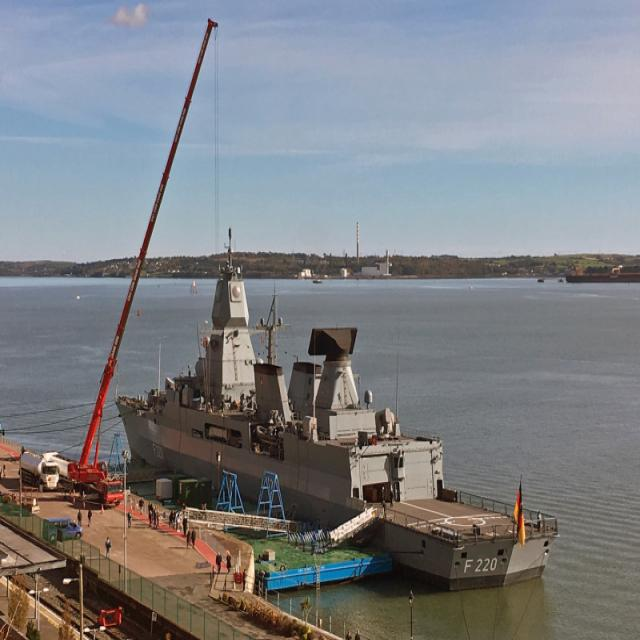Fragata: (111, 229, 562, 589)
